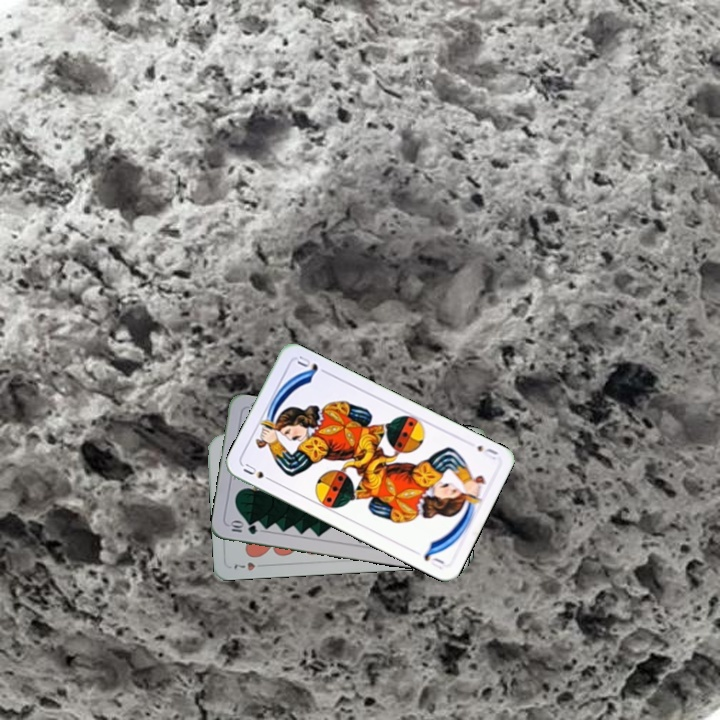G10: (225, 518, 260, 537)
H7: (230, 558, 269, 573)
SU: (239, 459, 277, 485), (473, 441, 501, 463)
